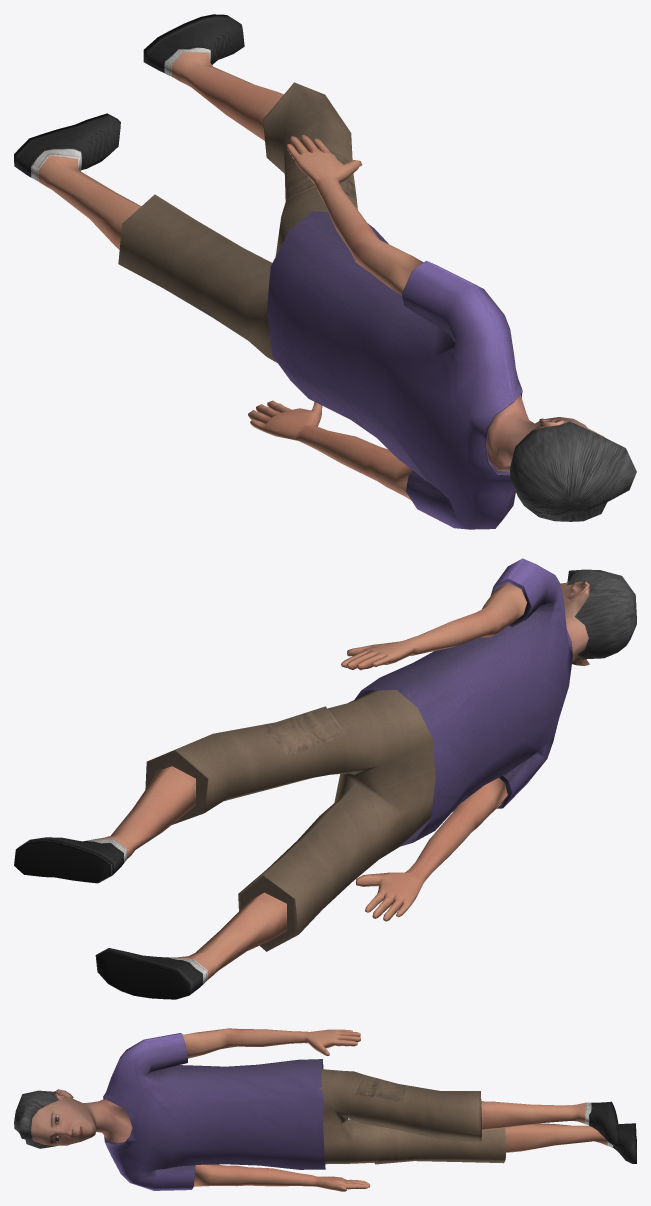
The model's file is walk.obj.
3 renders of one model, top to bottom at view 1: azimuth 30°, elevation 25°; view 2: azimuth 150°, elevation 25°; view 3: azimuth 270°, elevation 25°, orthographic. The views are drawn at different scales.
Size of the model in its own units: 0.4366 by 0.5146 by 1.78.
1 material, 1 textured.
